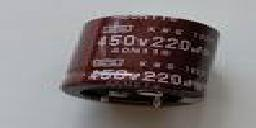Electrolytic-Capacitor: (60, 12, 224, 108)
